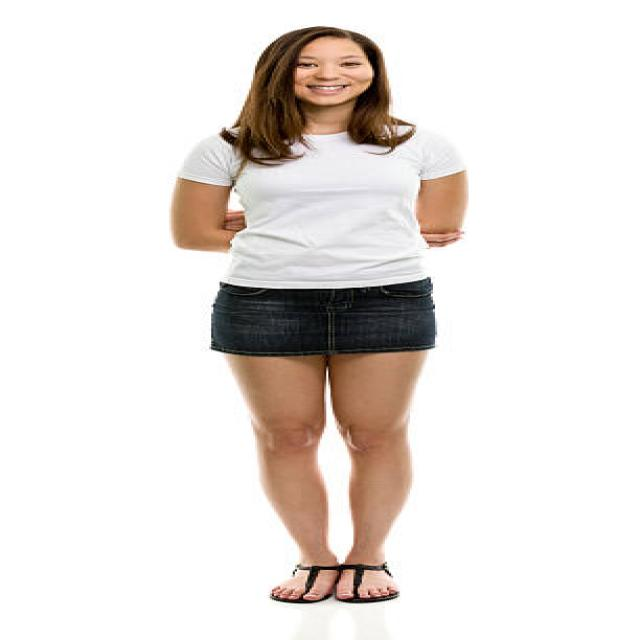Edited images: (138, 12, 501, 612)
